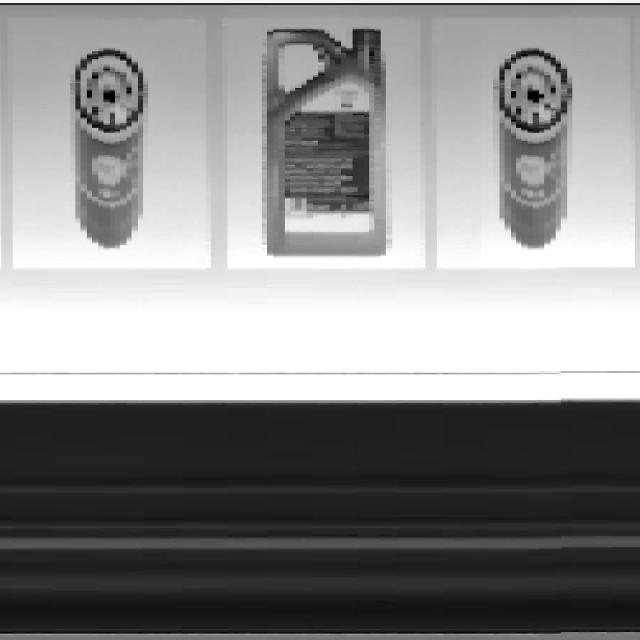motor_oil: (256, 22, 391, 264)
oil_filter: (65, 44, 149, 253), (493, 41, 574, 255)
